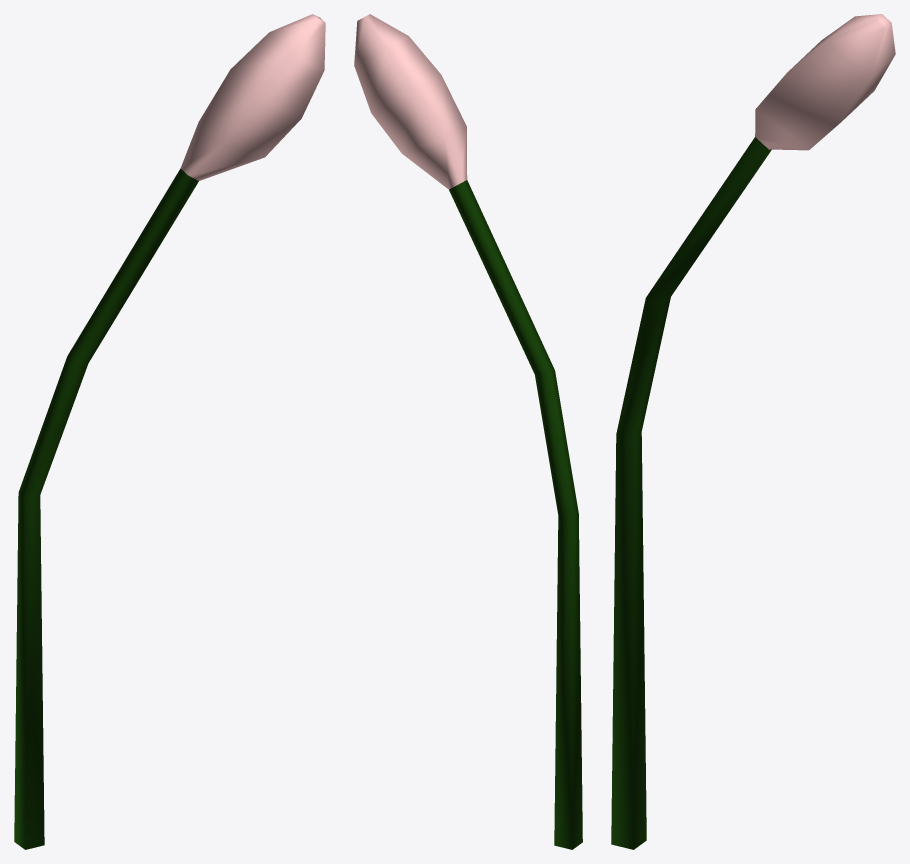
The model's file is Flower_bud_2.fbx.
3 views of the same model, side by side, from view 1: azimuth 30°, elevation 25°; view 2: azimuth 150°, elevation 25°; view 3: azimuth 330°, elevation 25° (orthographic). The views are drawn at different scales.
Parts seen in each view (by area): view 1: Flower_bud_2; view 2: Flower_bud_2; view 3: Flower_bud_2.
Part boxes in pixels (box(x1,y1,x2,y2)): Flower_bud_2: box(14, 14, 325, 849); Flower_bud_2: box(354, 14, 582, 849); Flower_bud_2: box(611, 14, 895, 849).
Size of the model in its own units: 16.99 by 48.18 by 5.89.
